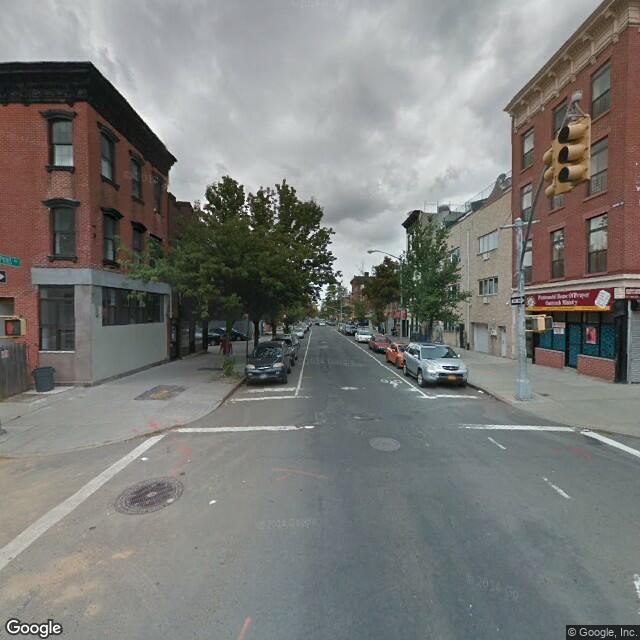litter: (206, 497, 217, 509)
